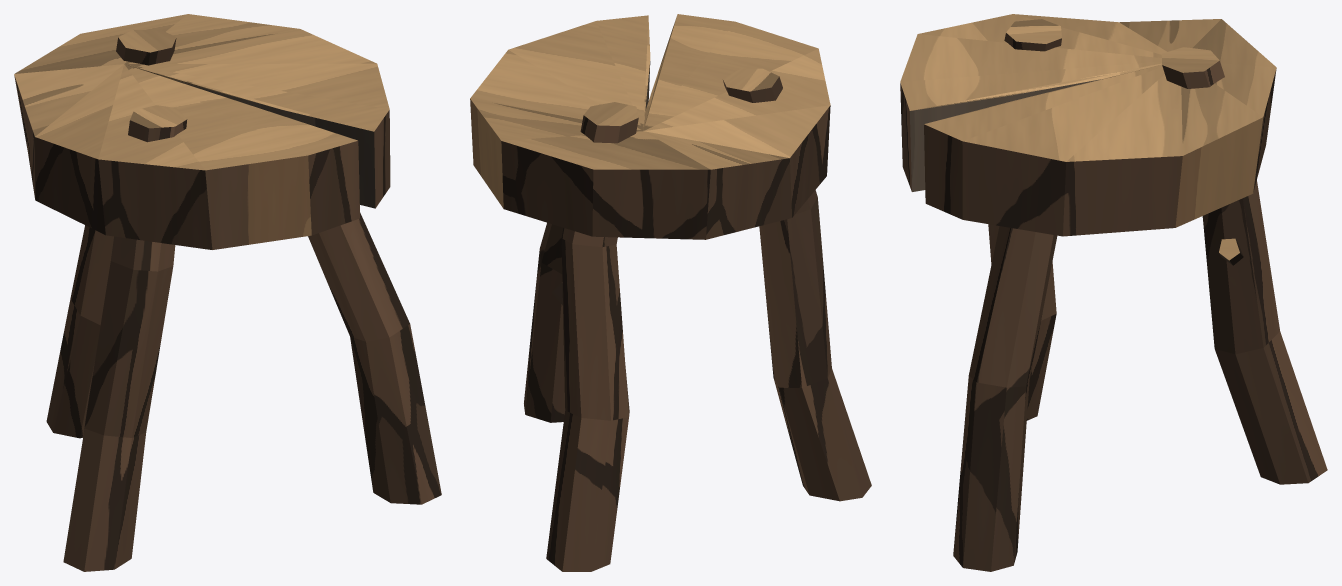
Rendered from SM_RoughStool.fbx.
The picture shows the model from 3 angles, left to right: view 1: azimuth 30°, elevation 25°; view 2: azimuth 150°, elevation 25°; view 3: azimuth 270°, elevation 25°; orthographic projection. The views are drawn at different scales.
Visible parts, largest first — view 1: SM_RoughStool; view 2: SM_RoughStool; view 3: SM_RoughStool.
Boxes of the visible parts, <box> form: SM_RoughStool: <box>14,14,441,571</box>; SM_RoughStool: <box>470,14,871,571</box>; SM_RoughStool: <box>900,14,1327,571</box>.
Bounding box in the file's own units: 0.416 × 0.4598 × 0.4246.
